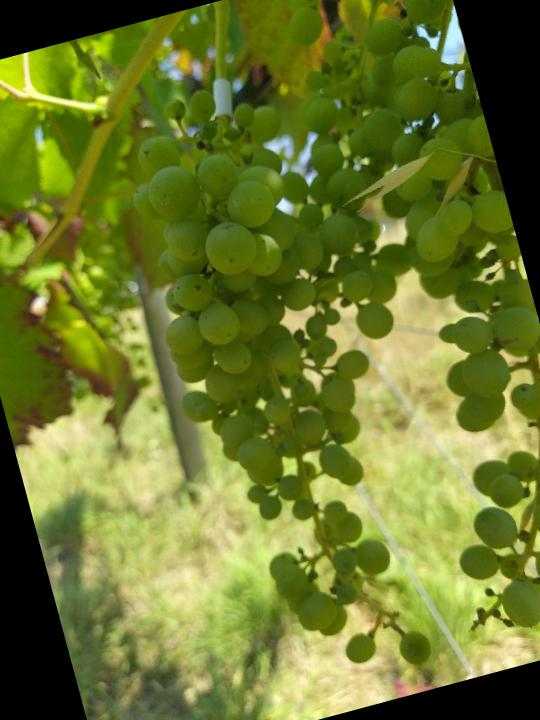grape: (100, 43, 516, 709)
